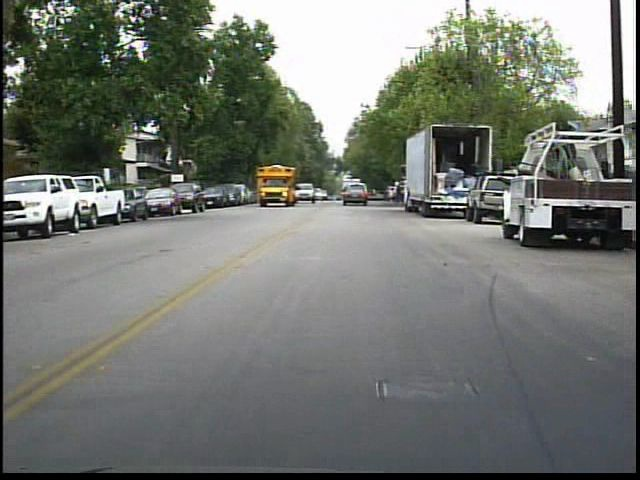person: (390, 177, 408, 210)
